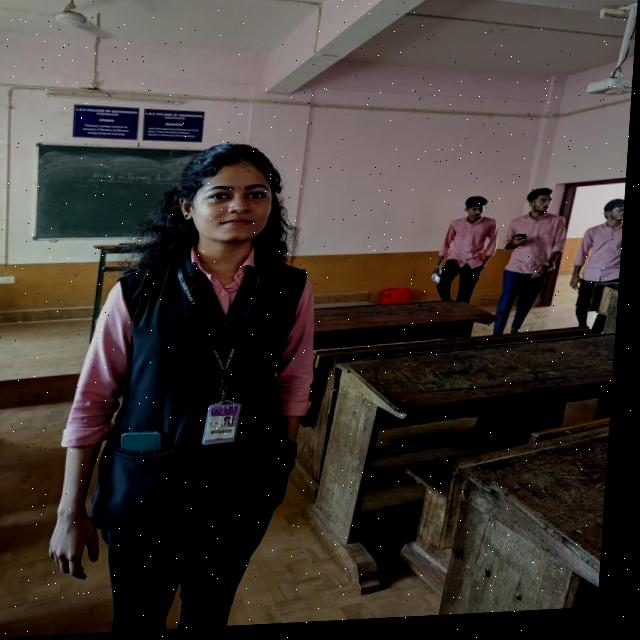id_card: (170, 255, 280, 455)
